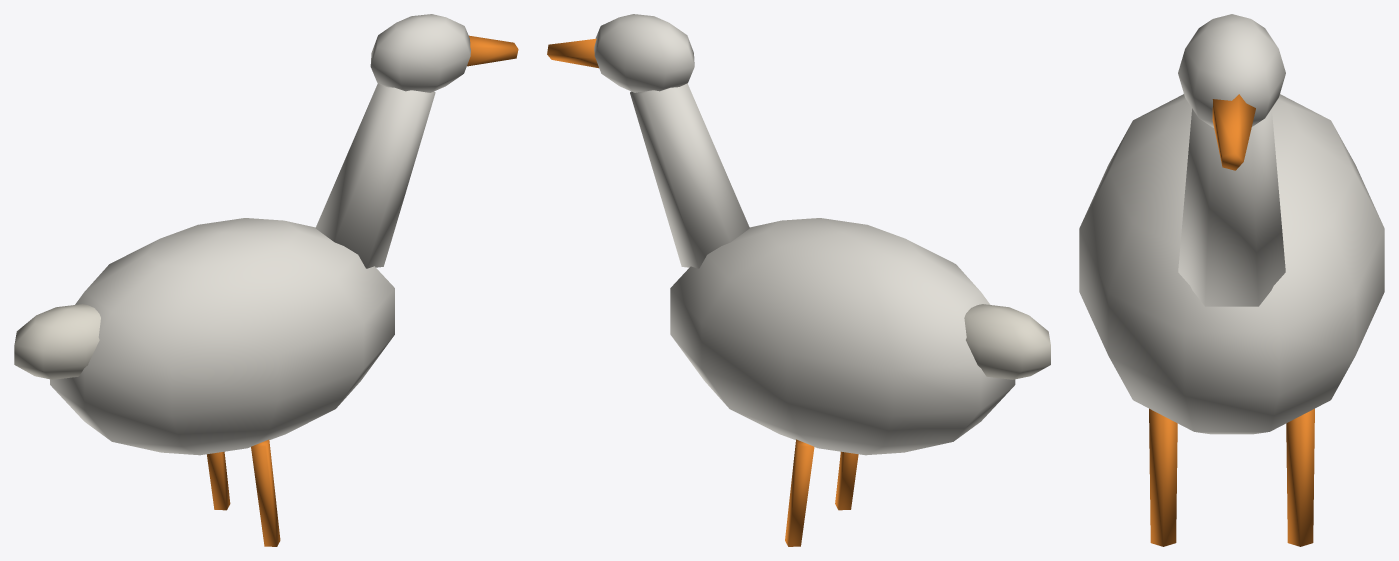
Rendered from goose.glb.
3 renders of one model, left to right at view 1: azimuth 30°, elevation 25°; view 2: azimuth 150°, elevation 25°; view 3: azimuth 270°, elevation 25°, orthographic. The views are drawn at different scales.
Parts seen in each view (by area): view 1: Sphere, Cone, Sphere.002, Sphere.001, Cone.002, Cone.001, Cone.003; view 2: Sphere, Cone, Sphere.002, Sphere.001, Cone.003, Cone.001, Cone.002; view 3: Sphere, Cone, Sphere.002, Cone.002, Cone.003, Cone.001.
Part boxes in pixels (x1,y1,x2,y2): Sphere: (50,218,394,455); Cone: (315,83,435,268); Sphere.002: (370,14,470,92); Sphere.001: (14,304,100,379); Cone.002: (251,439,280,546); Cone.001: (467,35,518,66); Cone.003: (207,451,230,510); Sphere: (670,218,1015,455); Cone: (630,83,749,268); Sphere.002: (594,14,694,92); Sphere.001: (964,304,1050,379); Cone.003: (785,439,814,546); Cone.001: (547,38,598,68); Cone.002: (835,451,858,510); Sphere: (1079,94,1384,434); Cone: (1178,108,1285,306); Sphere.002: (1178,14,1285,127); Cone.002: (1149,408,1177,546); Cone.003: (1286,408,1314,546); Cone.001: (1212,94,1255,170).
Bounding box in the file's own units: 0.8081 × 0.7169 × 0.312.
